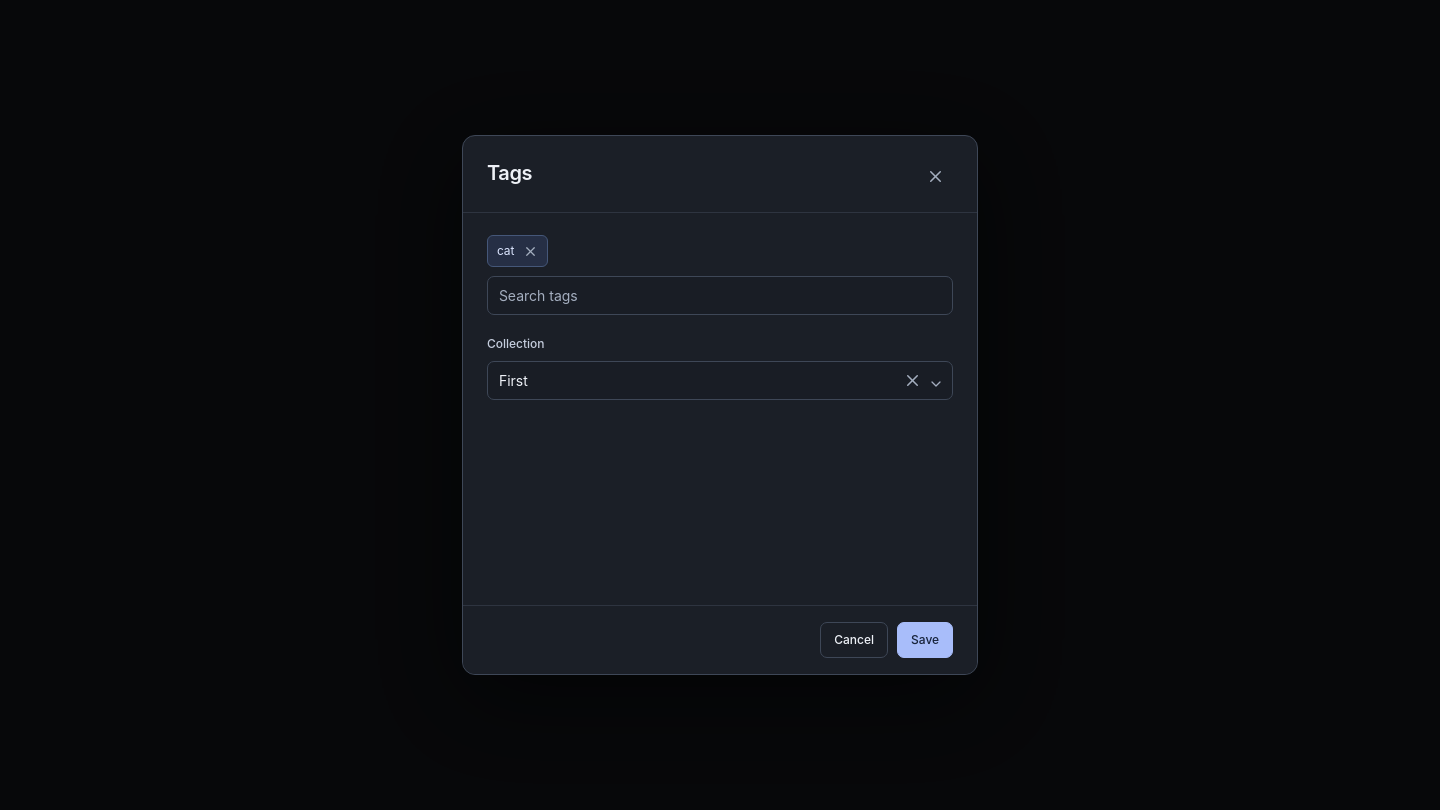
sends tags and one collection atomically with If-Match and preserves draft on failure
Replace the text in the dropdown named "collection" with "Second". click: (720, 380)
box: [487,361,953,400]
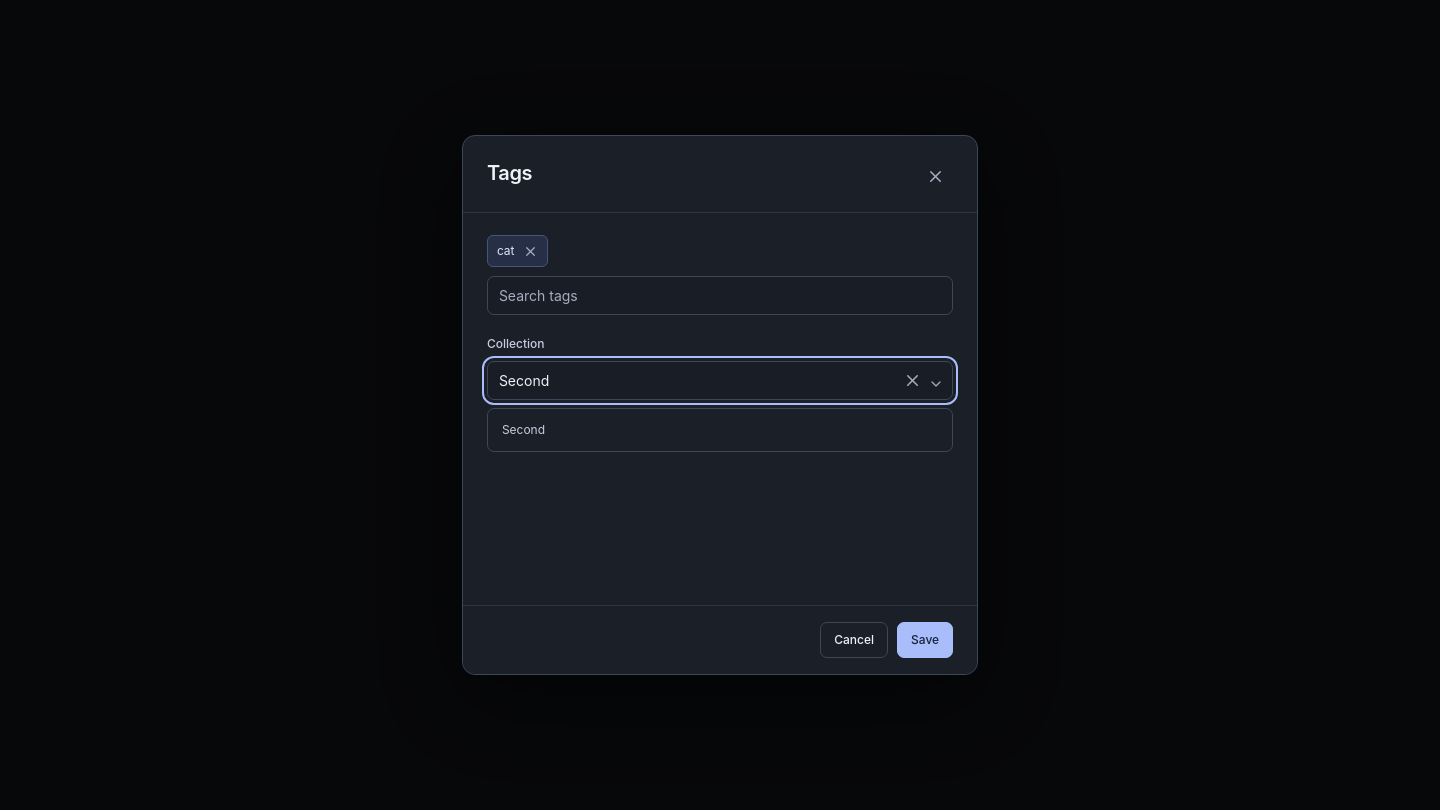
Click the option "Second". click: (524, 430)
box: [502,422,545,437]
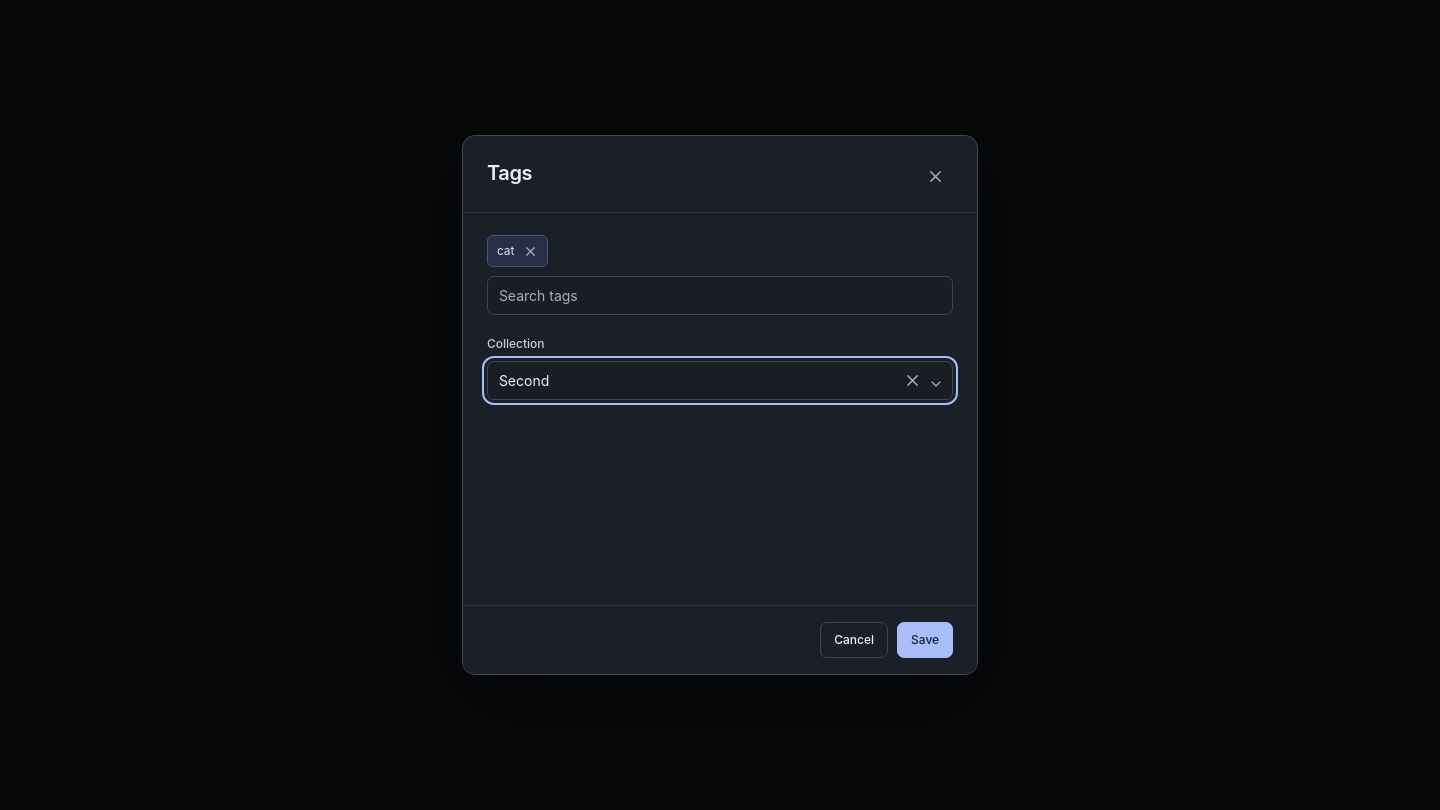
Click the button "Save". click: (925, 640)
box: [897,622,953,658]
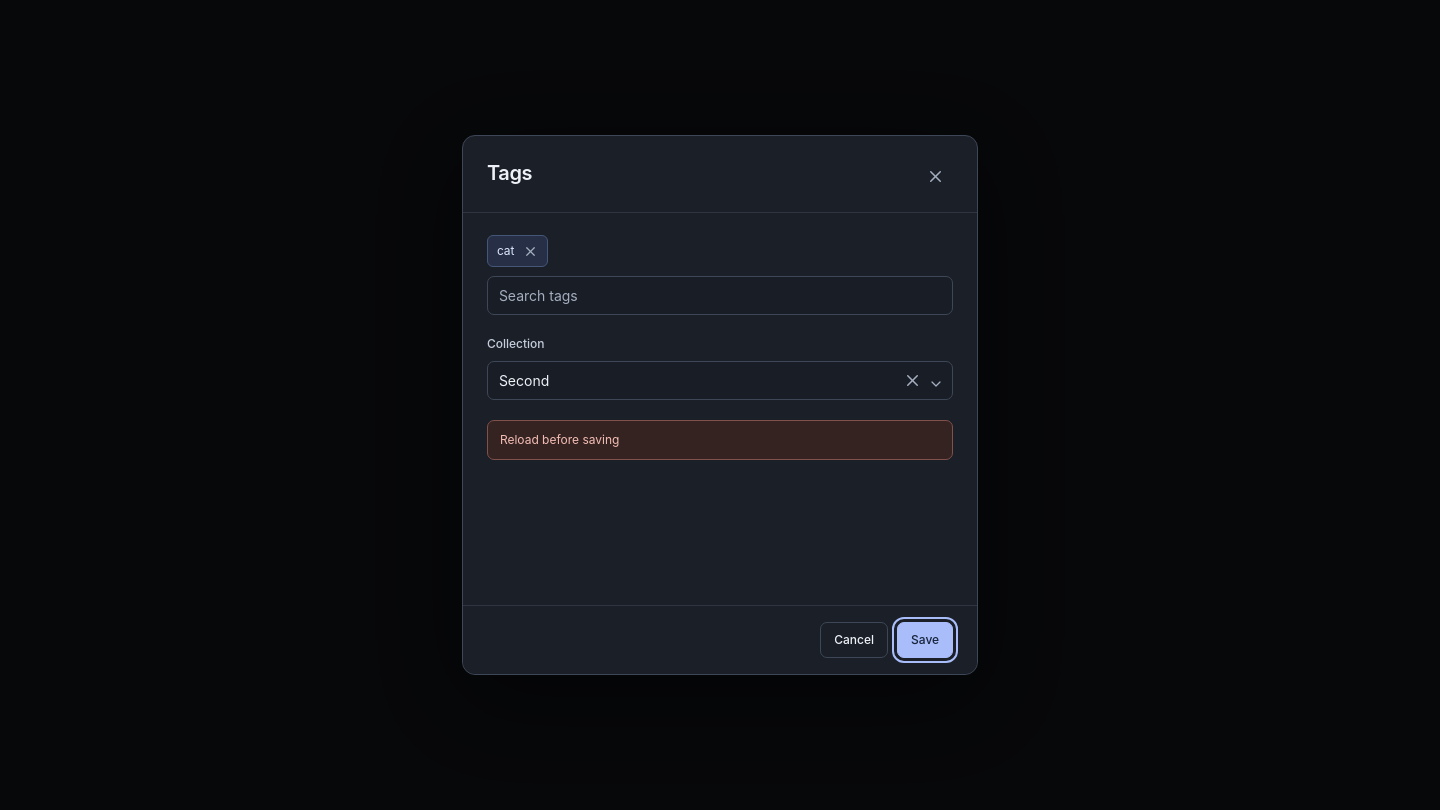
Check: the message reads "Reload before saving", box [500,432,619,447]
